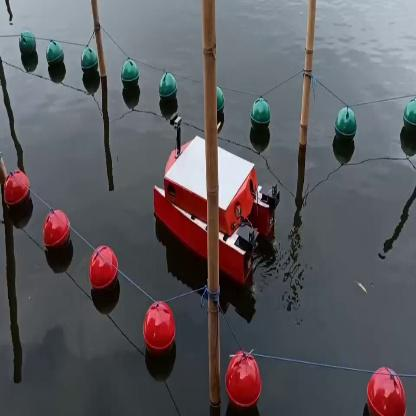green_buoy: (336, 104, 354, 146), (119, 56, 138, 94), (159, 68, 178, 106), (251, 98, 271, 134), (44, 40, 62, 73), (79, 49, 99, 78), (19, 32, 36, 60), (406, 99, 415, 135), (216, 88, 224, 120)
red_buoy: (364, 363, 405, 415), (226, 352, 258, 410), (145, 300, 172, 355), (3, 168, 32, 218), (88, 244, 116, 290), (46, 207, 68, 246)
